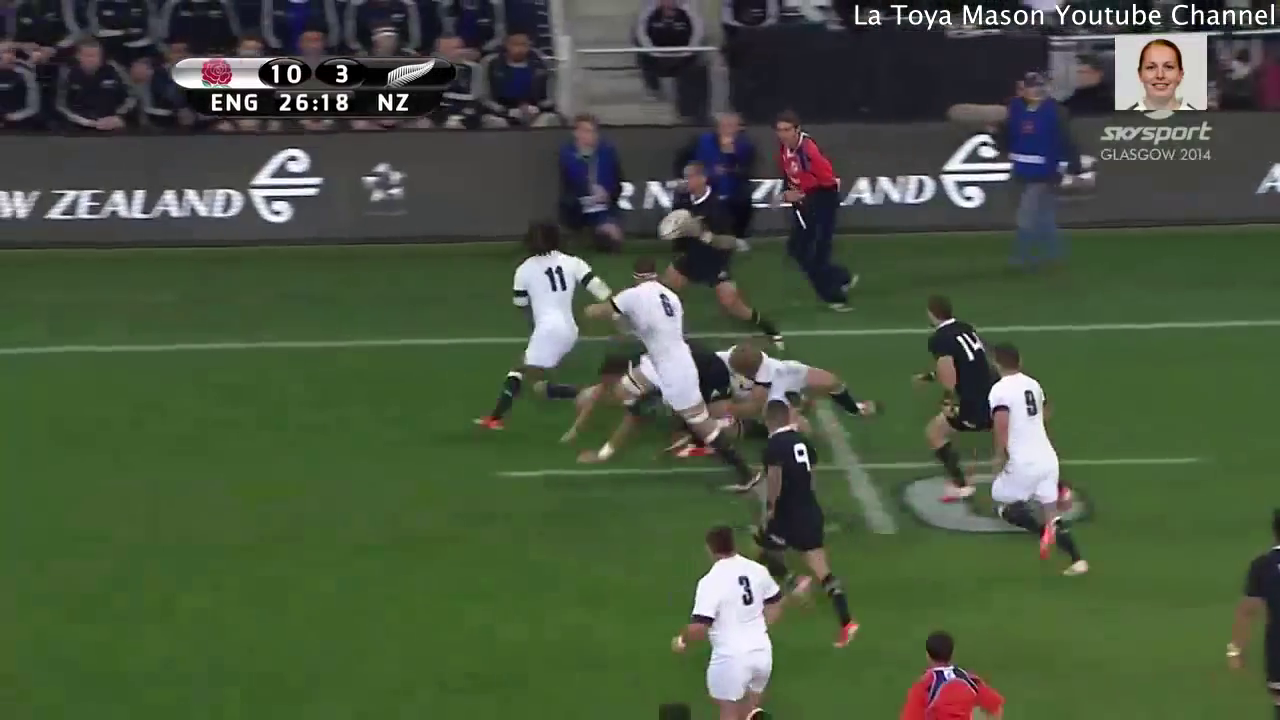ball: (652, 199, 700, 257)
player: (741, 399, 863, 649), (981, 350, 1098, 584), (642, 158, 788, 340), (591, 261, 713, 475), (668, 529, 798, 720), (486, 222, 588, 440), (913, 299, 1001, 517), (711, 341, 871, 438), (1226, 500, 1280, 720), (891, 628, 1009, 720)
